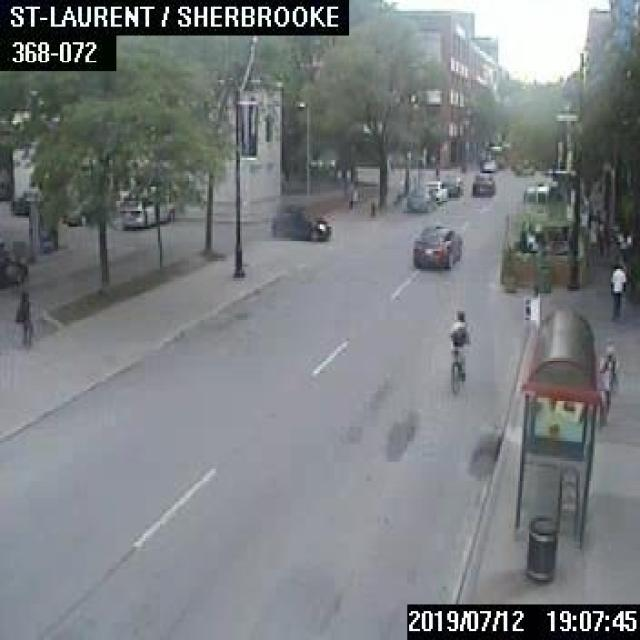cyclist: (446, 307, 468, 391)
pedestrian: (598, 347, 614, 410), (609, 262, 626, 320), (13, 289, 31, 342), (347, 176, 358, 211)
vehicle: (411, 222, 464, 267), (271, 206, 329, 238), (119, 192, 173, 226), (60, 197, 100, 225), (0, 242, 25, 286), (8, 188, 39, 214), (522, 184, 548, 210), (408, 186, 433, 209), (421, 178, 447, 200), (441, 173, 463, 196), (471, 172, 493, 194), (479, 156, 495, 173)
